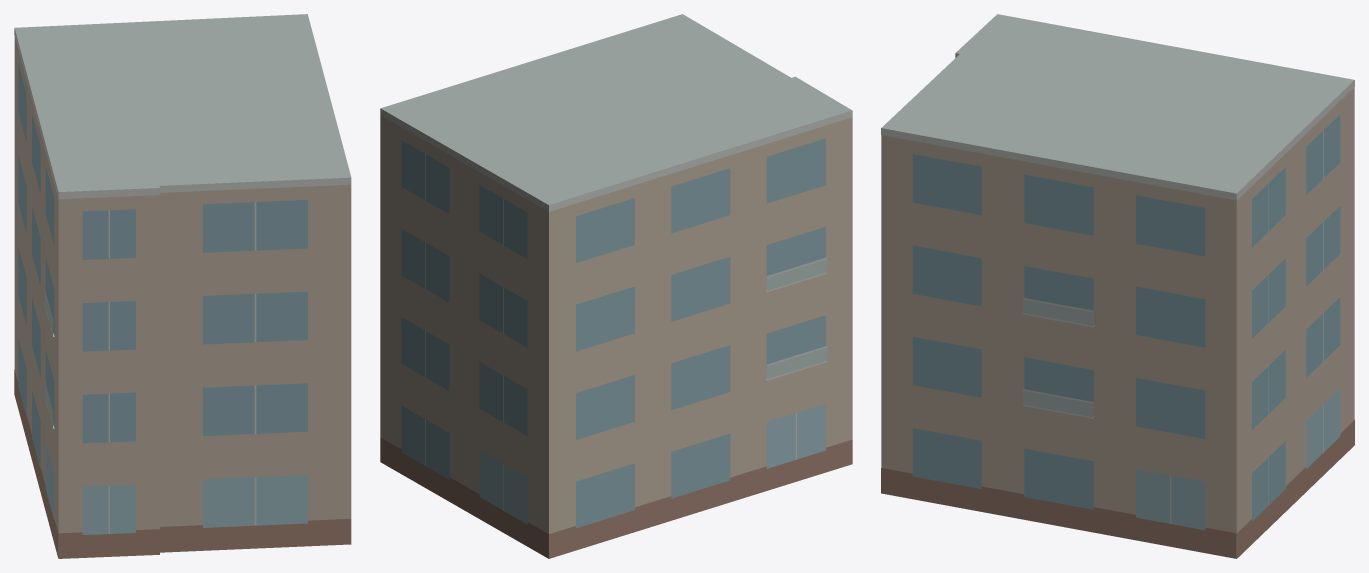
File: survey-upis-32565818.glb
The picture shows the model from 3 angles, left to right: view 1: azimuth 30°, elevation 25°; view 2: azimuth 150°, elevation 25°; view 3: azimuth 270°, elevation 25°; orthographic projection. The views are drawn at different scales.
Visible parts, largest first — view 1: survey-upis-32565818.tmp; view 2: survey-upis-32565818.tmp; view 3: survey-upis-32565818.tmp.
Part boxes in pixels (bbox=[...]): survey-upis-32565818.tmp: bbox=[14, 14, 351, 558]; survey-upis-32565818.tmp: bbox=[380, 14, 852, 558]; survey-upis-32565818.tmp: bbox=[881, 14, 1354, 558].
Bounding box in the file's own units: 13.4 × 12.7 × 14.93.
